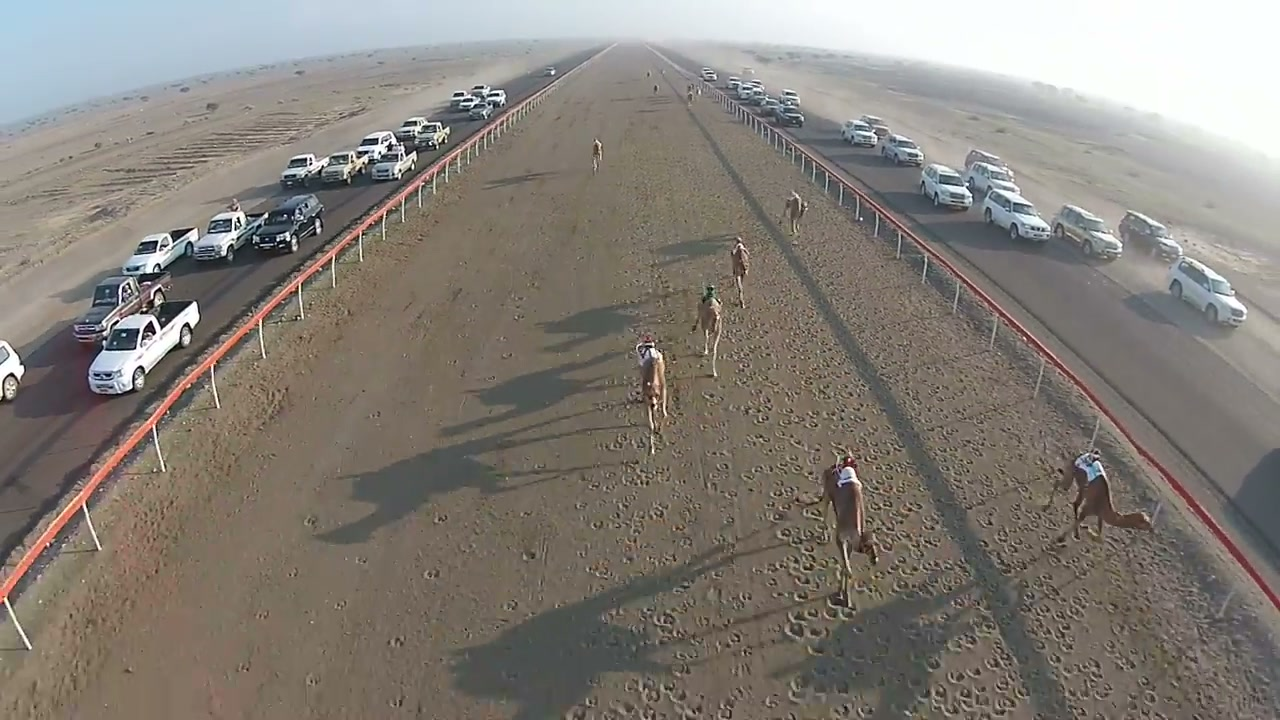animal_foot_print: (584, 275, 850, 719)
